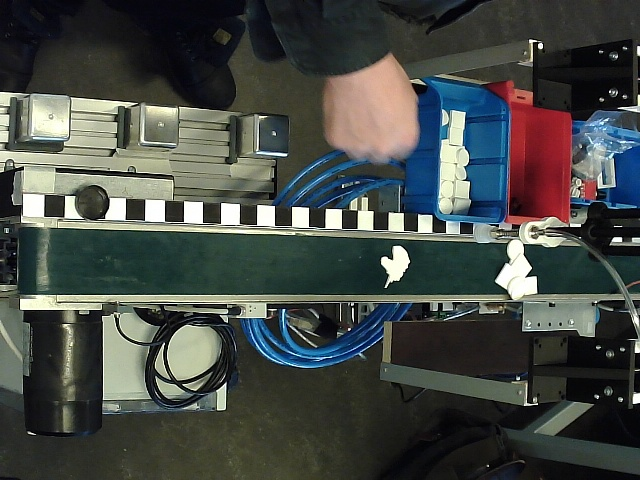unicorn: (381, 245, 411, 290)
